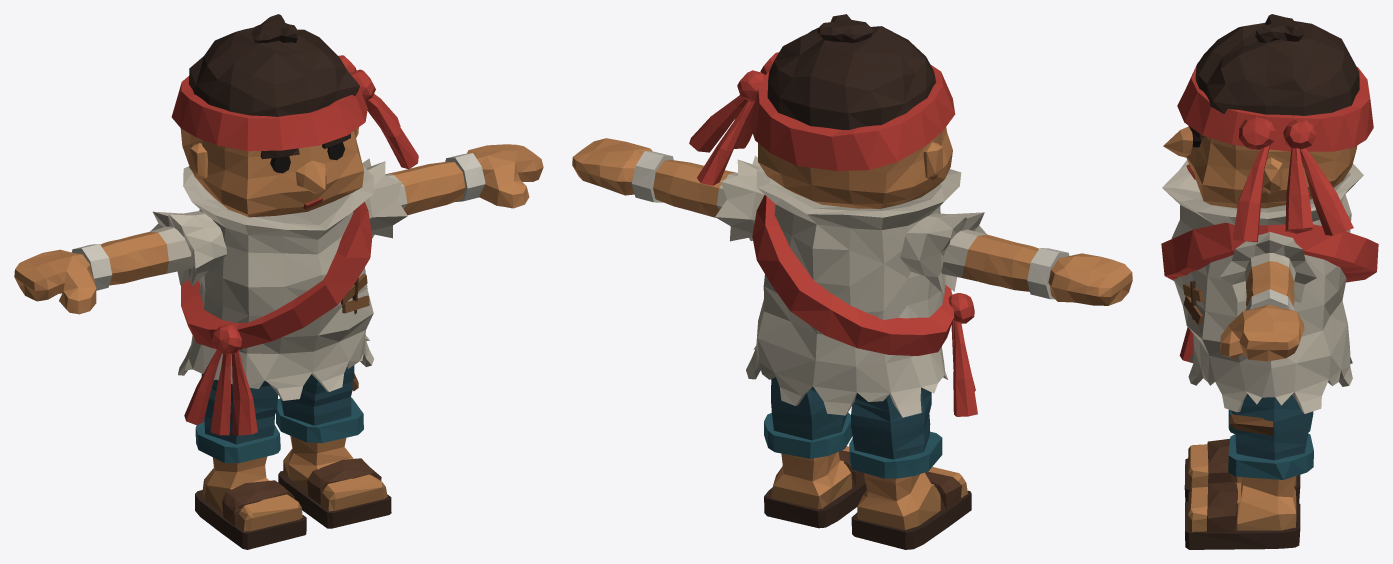
File: deckhand-v15-coloured.fbx
The picture shows the model from 3 angles, left to right: view 1: azimuth 30°, elevation 25°; view 2: azimuth 150°, elevation 25°; view 3: azimuth 270°, elevation 25°; orthographic projection. The views are drawn at different scales.
Visible parts, largest first — view 1: Deckhand_v15; view 2: Deckhand_v15; view 3: Deckhand_v15.
Boxes of the visible parts, left/top/right/bottom form: Deckhand_v15: left=14, top=14, right=543, bottom=549; Deckhand_v15: left=572, top=14, right=1132, bottom=549; Deckhand_v15: left=1161, top=14, right=1378, bottom=549.
Size of the model in its own units: 145 by 130 by 52.01.
